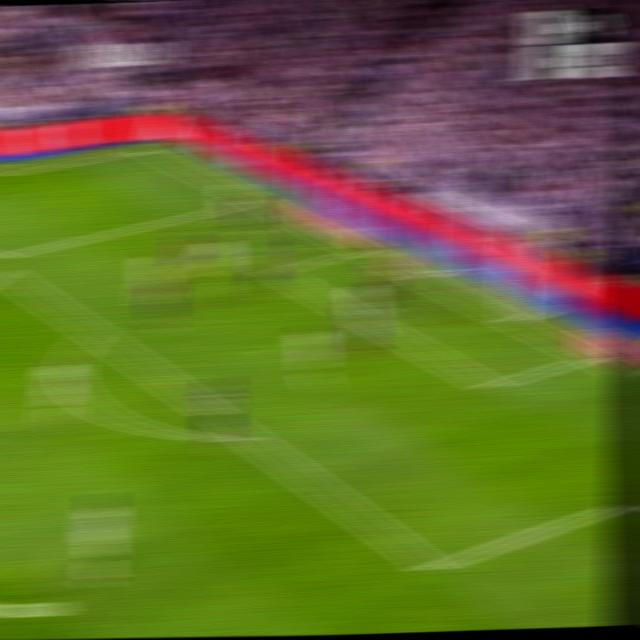bigarea_bottom_inner: (416, 549, 449, 586)
bottom_arc_area_intersection: (231, 419, 264, 453)
corner: (133, 141, 164, 156)
smallarea_bottom_inner: (477, 373, 504, 399)
smallarea_bottom_outter: (576, 349, 600, 364)
smallarea_top_inner: (262, 260, 289, 281)
top_arc_area_intersection: (79, 318, 107, 343)
